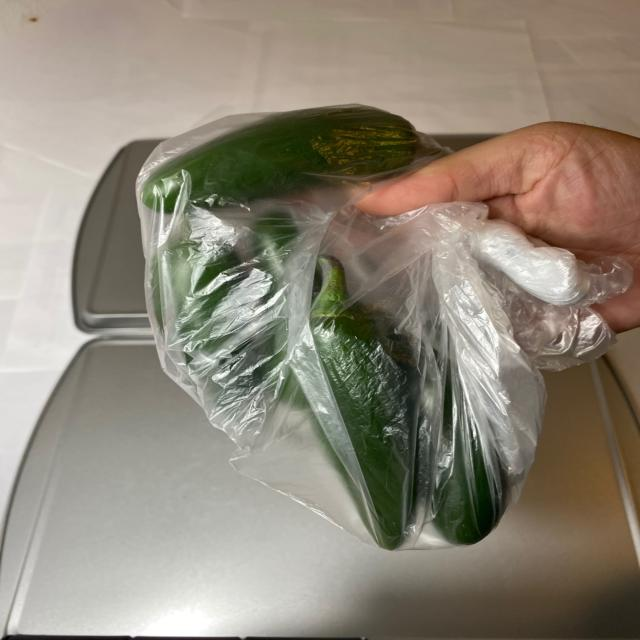chilli: (124, 104, 513, 556)
